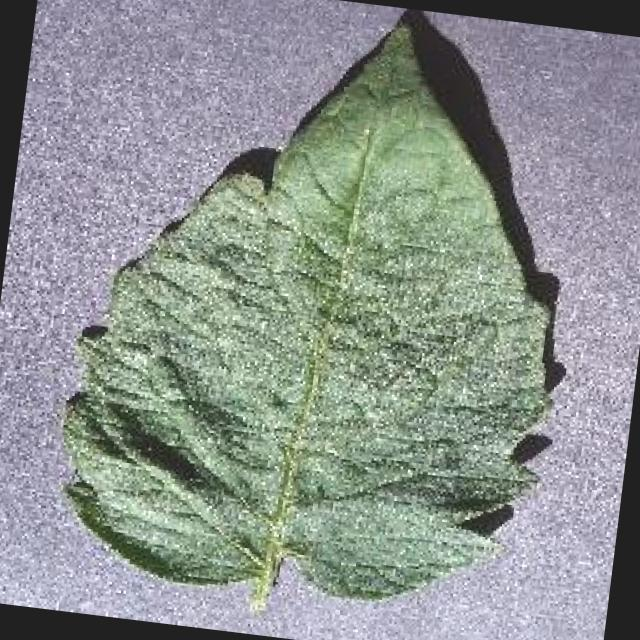healthy: (63, 26, 548, 607)
